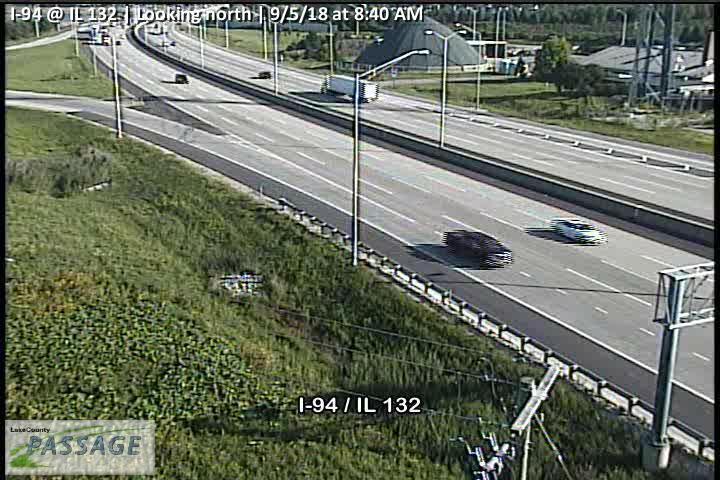Sedan: (442, 230, 513, 268), (553, 217, 606, 245), (175, 74, 188, 84), (259, 72, 270, 78)
Truck: (320, 76, 378, 104)
